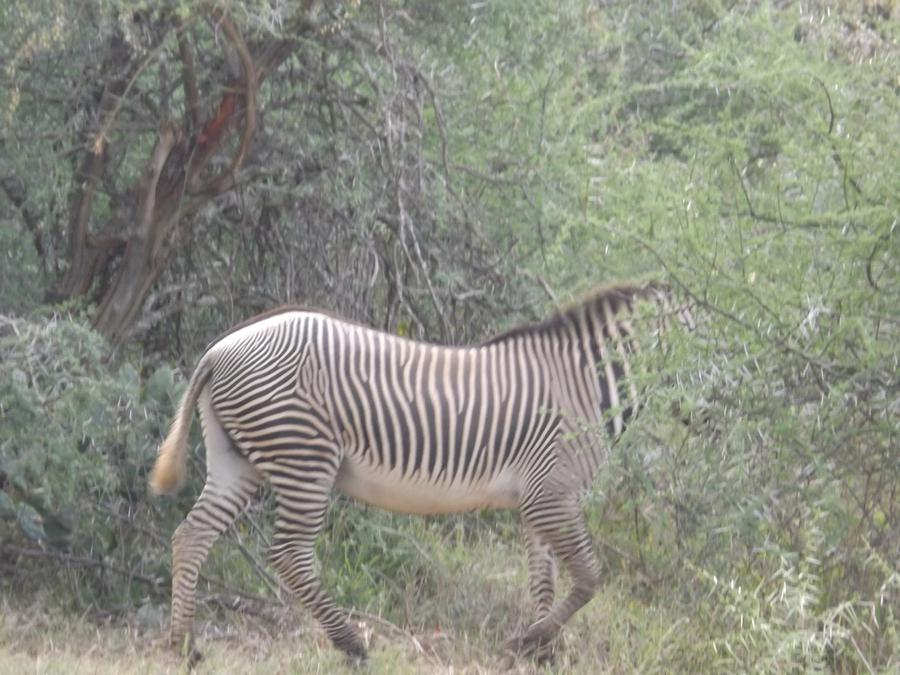zebra_grevys: (187, 280, 592, 500)
